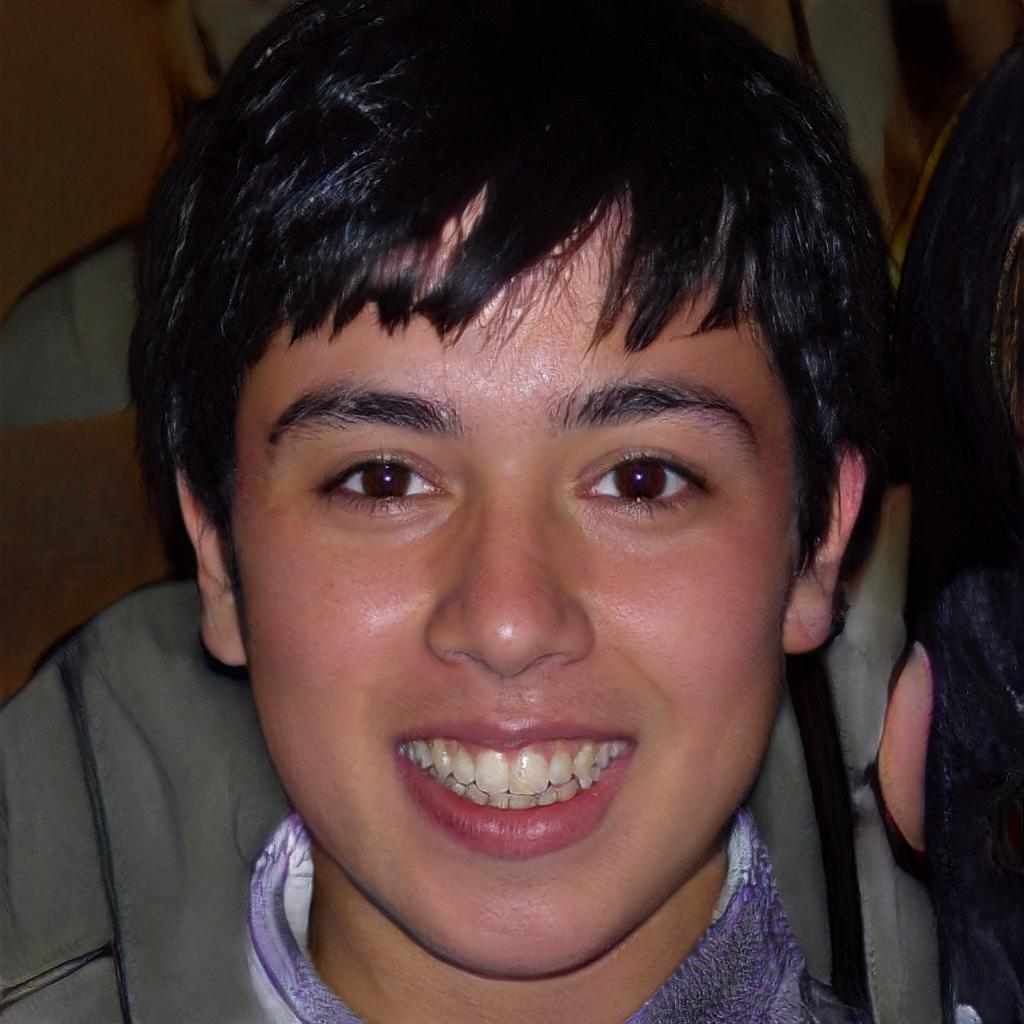face: (232, 208, 782, 980)
